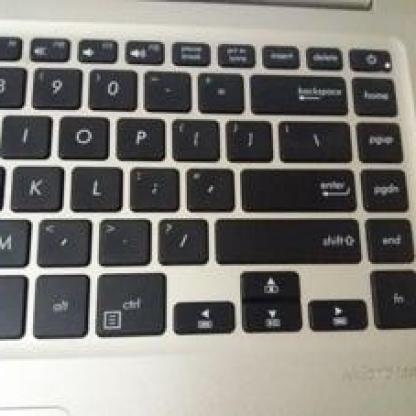keyboard: (0, 24, 414, 322)
